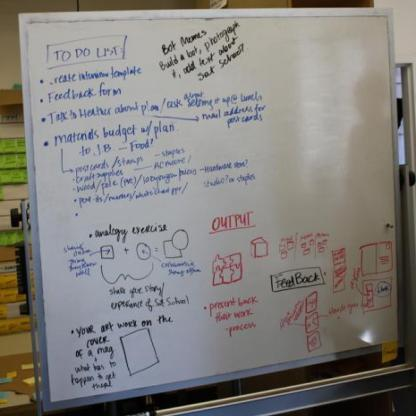Handwritten text: (66, 157, 250, 196), (152, 13, 248, 77), (68, 140, 189, 176), (48, 117, 183, 149), (170, 28, 250, 82), (188, 37, 261, 92), (72, 178, 185, 211), (71, 310, 178, 341), (45, 98, 145, 131), (42, 77, 134, 107), (213, 90, 278, 132), (206, 294, 264, 340), (45, 60, 143, 87), (45, 36, 126, 66), (157, 17, 214, 59), (88, 220, 171, 243), (108, 296, 192, 314), (59, 240, 95, 280), (68, 164, 129, 183), (205, 211, 257, 232), (106, 283, 169, 299), (69, 342, 118, 362), (162, 257, 203, 280), (73, 142, 117, 156), (125, 139, 153, 154)
Whiteboard: (23, 4, 405, 409)
